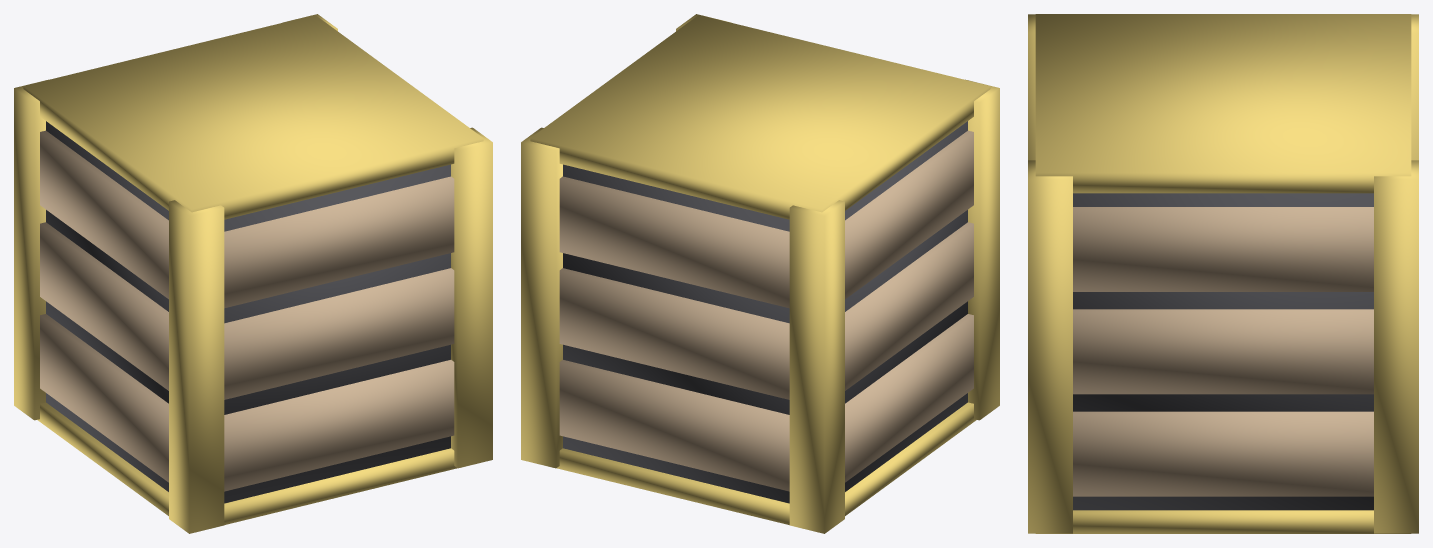
The model's file is crate.glb.
3 views of the same model, side by side, from view 1: azimuth 30°, elevation 25°; view 2: azimuth 150°, elevation 25°; view 3: azimuth 270°, elevation 25° (orthographic). The views are drawn at different scales.
Parts seen in each view (by area): view 1: crate; view 2: crate; view 3: crate.
Part boxes in pixels (<box>): crate: <box>14,14,492,533</box>; crate: <box>521,14,999,533</box>; crate: <box>1028,14,1418,533</box>.
Bounding box in the file's own units: 1.04 × 1.06 × 1.04.
